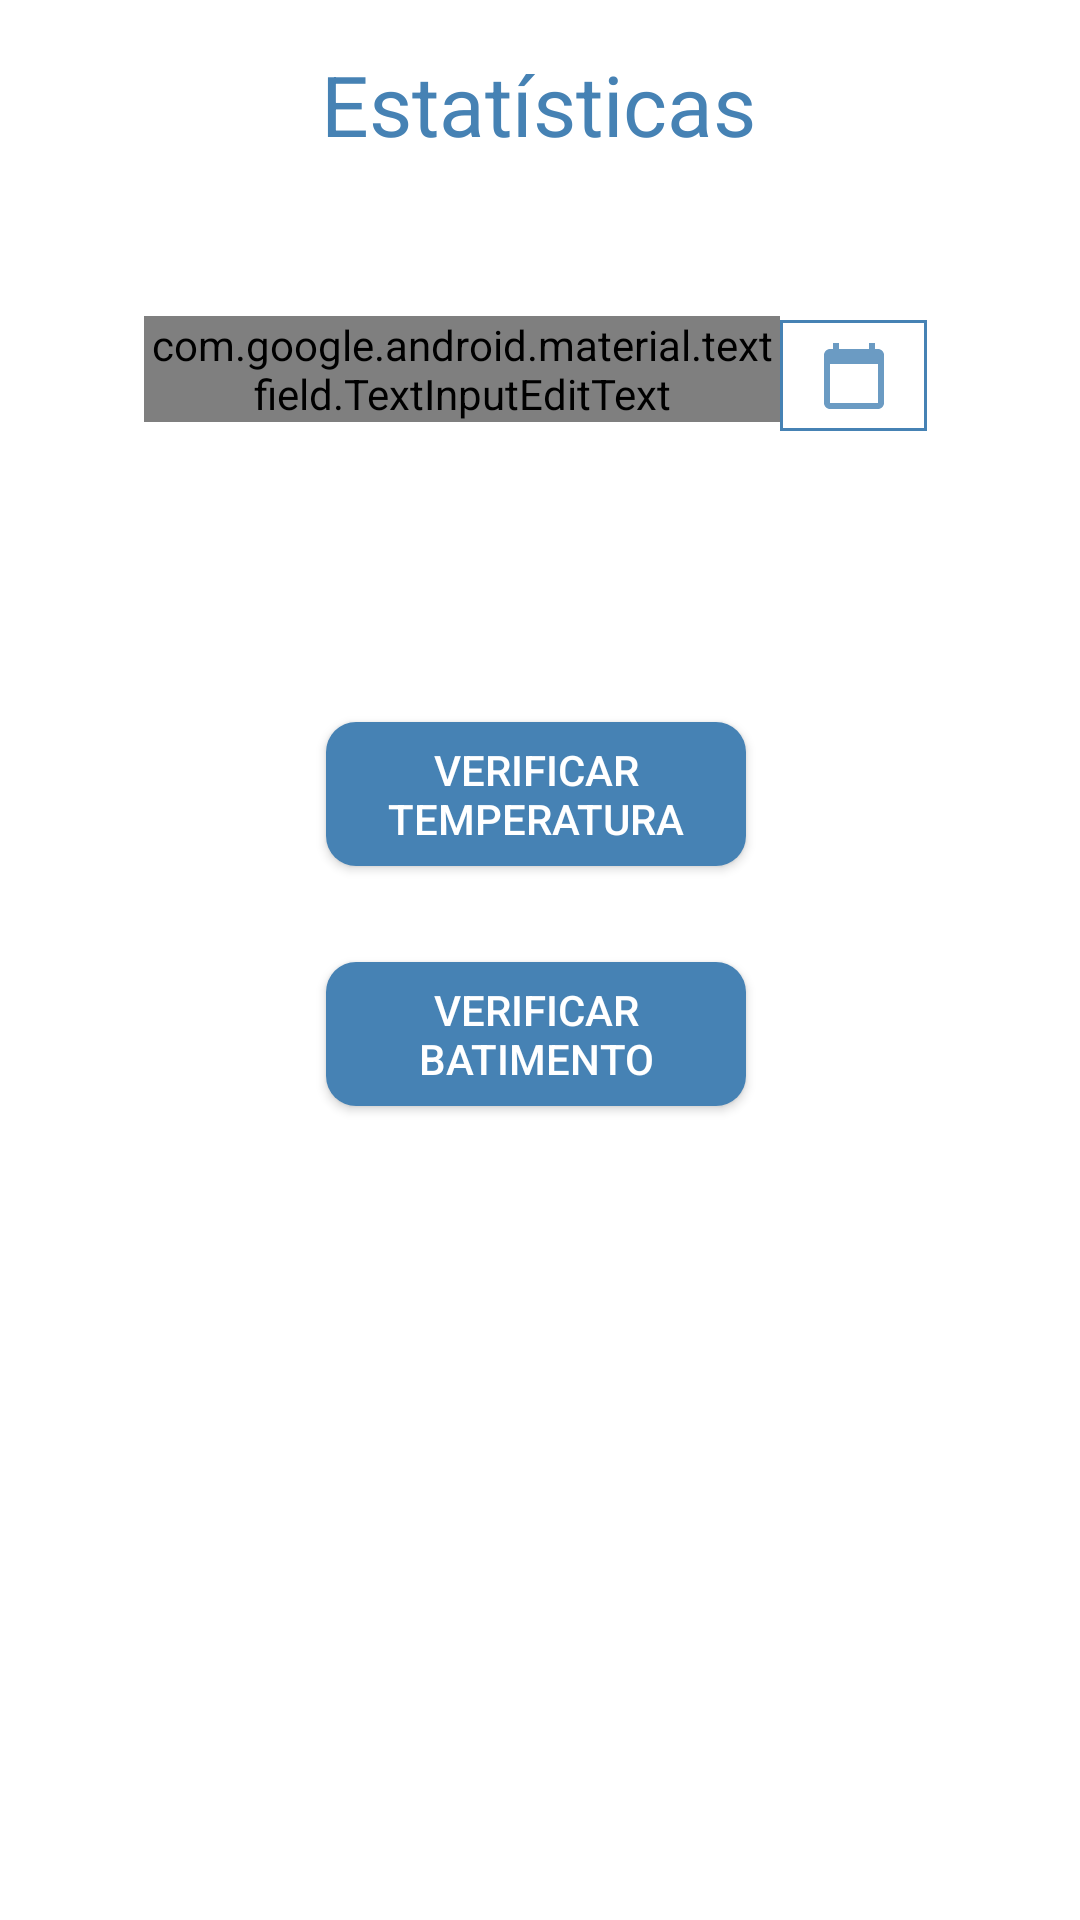

Icon bounding boxes for this 1080*1920 phone screenshot, format (x1, y1, x2, y2):
calendar: (824, 343, 884, 409)
